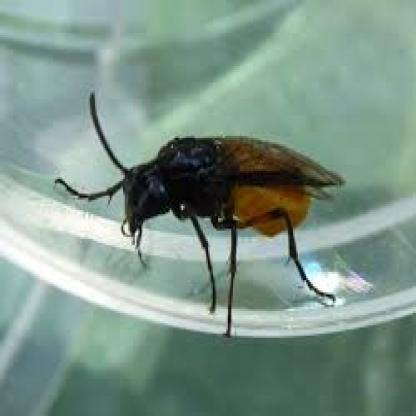sawfly: (52, 90, 348, 344)
